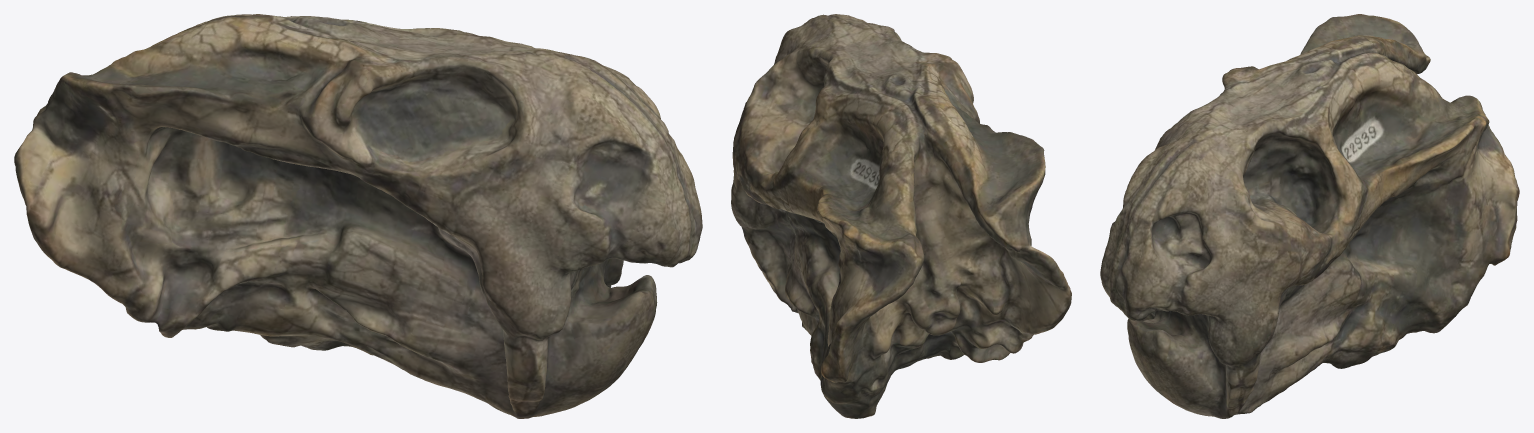
3 views of the same model, side by side, from view 1: azimuth 30°, elevation 25°; view 2: azimuth 150°, elevation 25°; view 3: azimuth 270°, elevation 25° (orthographic). The views are drawn at different scales.
Visible parts, largest first — view 1: Diictodon_feliceps_Owen__1876-unwrapped-webmulti; view 2: Diictodon_feliceps_Owen__1876-unwrapped-webmulti; view 3: Diictodon_feliceps_Owen__1876-unwrapped-webmulti.
Boxes of the visible parts, x1,y1,x2,y2 form: Diictodon_feliceps_Owen__1876-unwrapped-webmulti: (14,14,702,418); Diictodon_feliceps_Owen__1876-unwrapped-webmulti: (731,14,1071,418); Diictodon_feliceps_Owen__1876-unwrapped-webmulti: (1100,14,1519,418).
Size of the model in its own units: 4915 by 3513 by 4534.
Materials: 1 (1 with a texture image).
